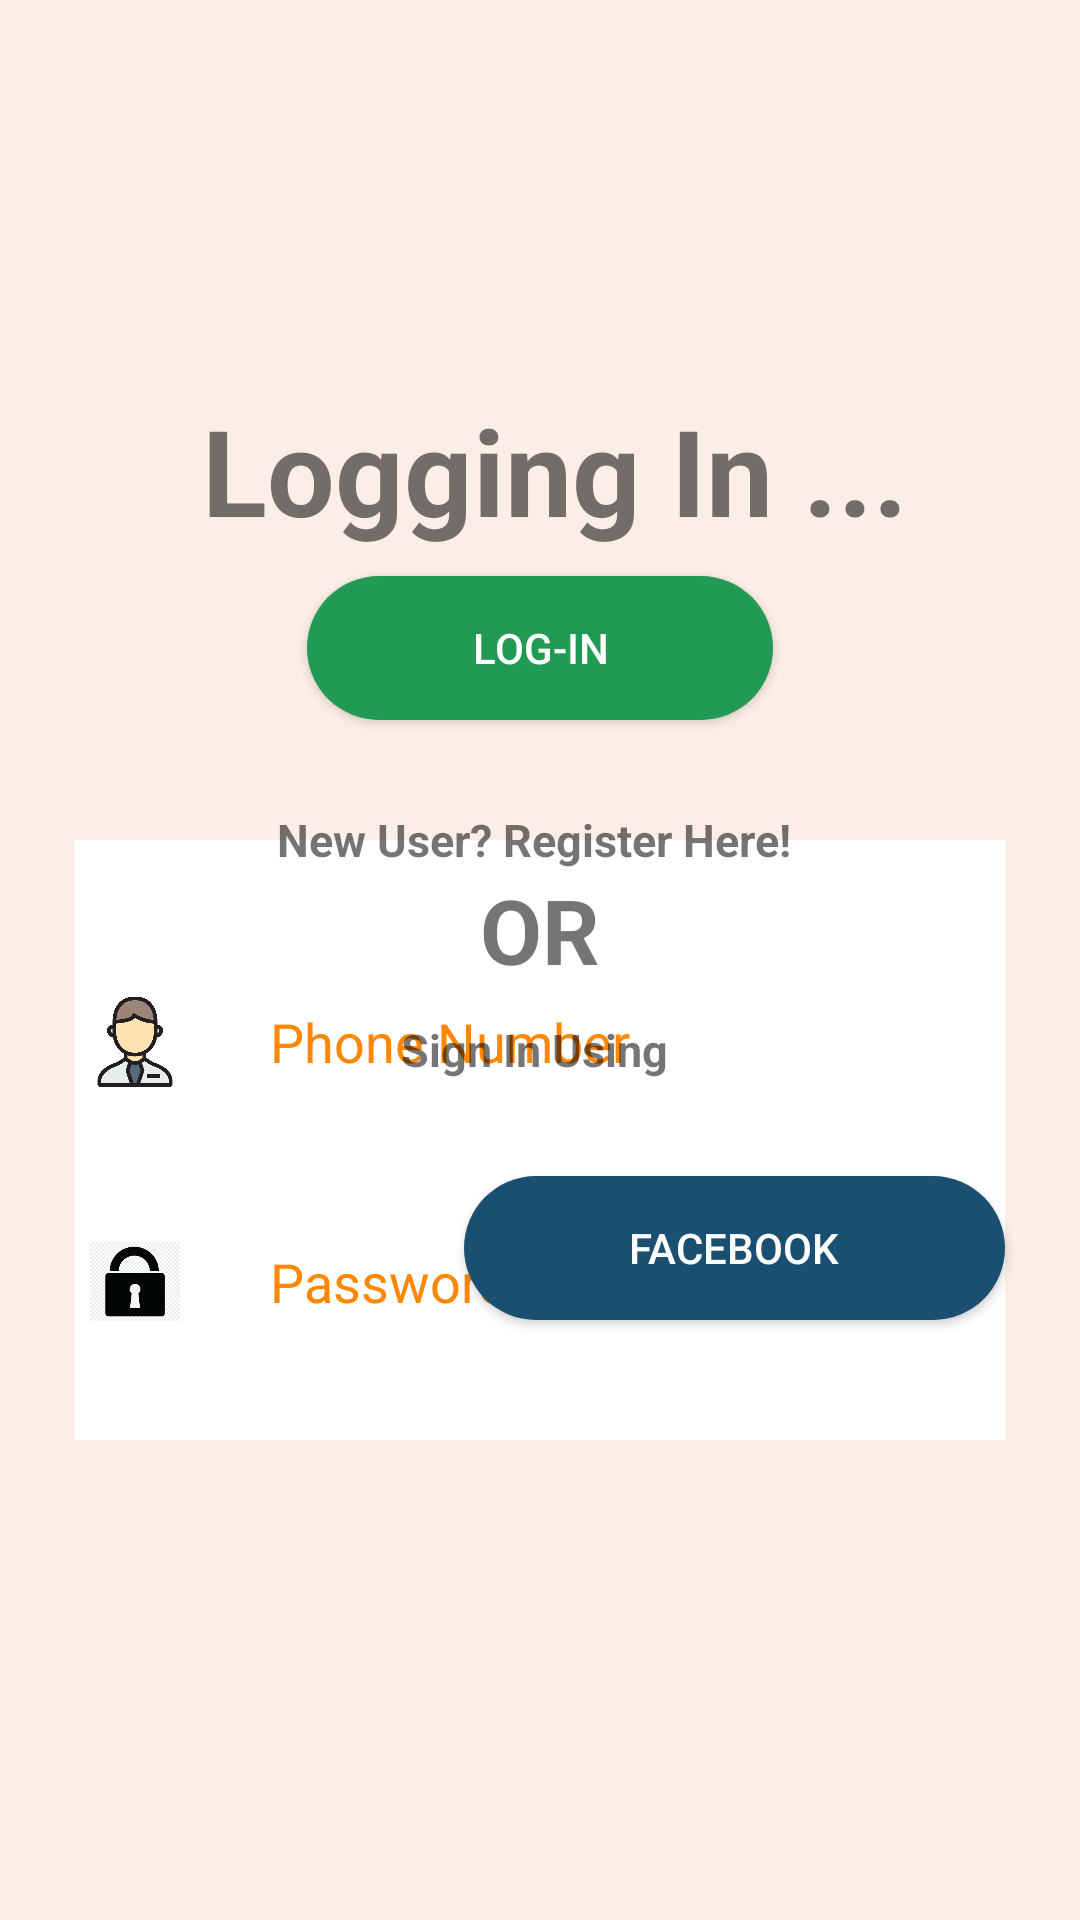

Icon click points for this 1080px x 1920px phone screenshot, format (x,y):
lock: (135,1281)
